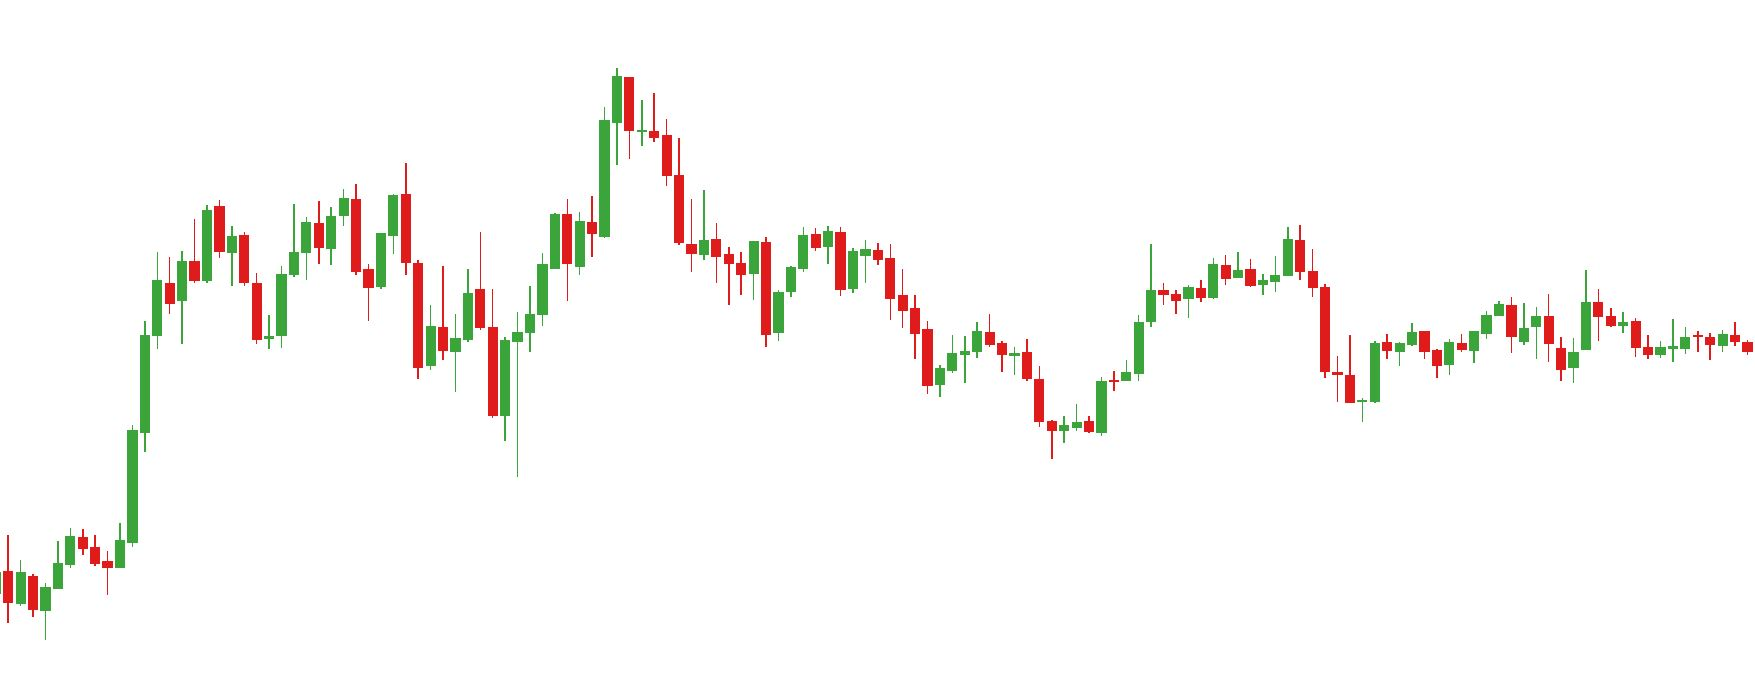buy: (173, 230, 272, 356)
sell: (350, 153, 414, 282), (1205, 227, 1307, 295), (758, 225, 823, 291)
